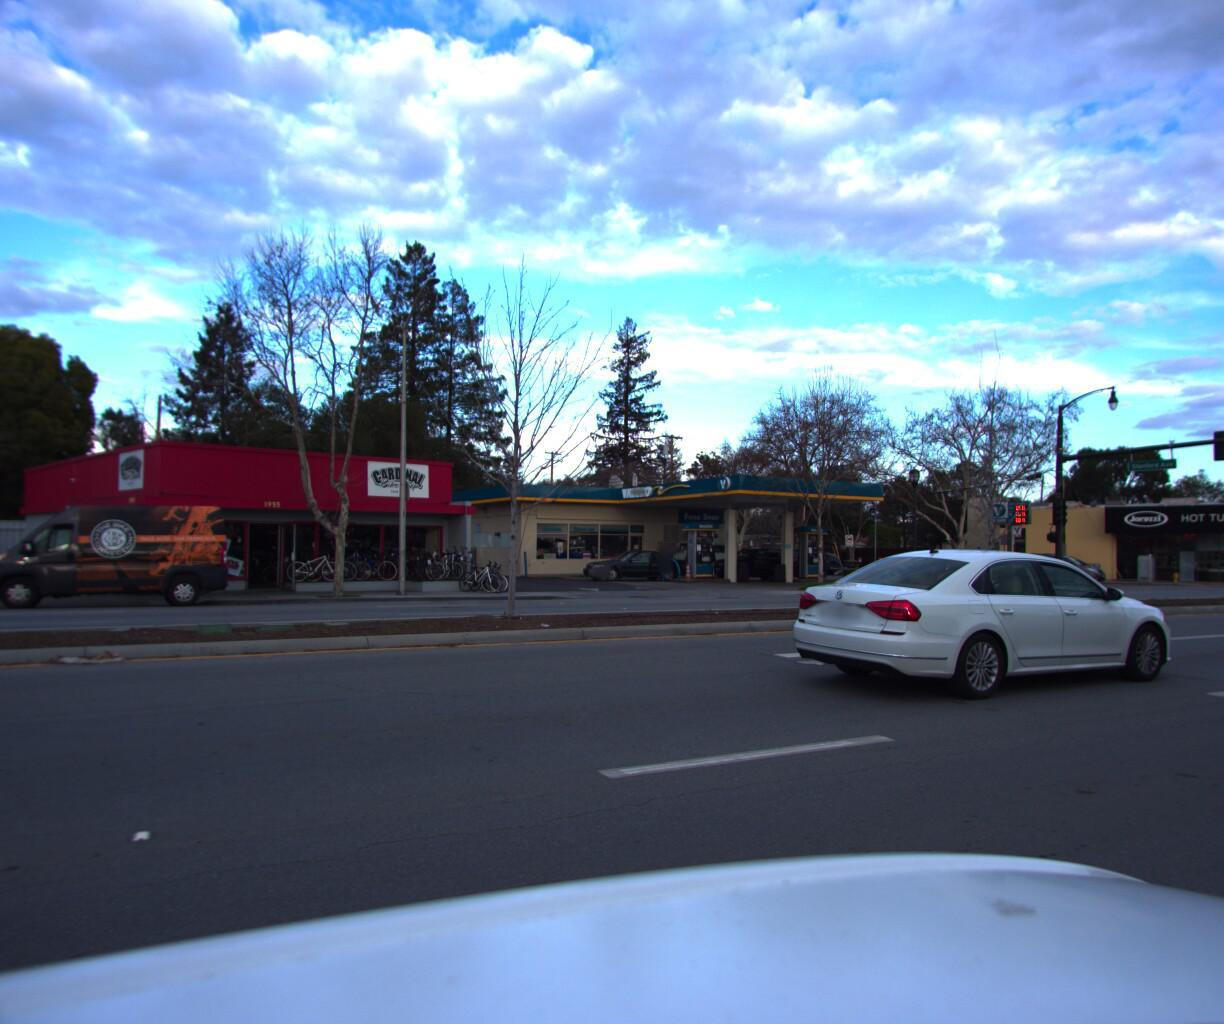bicycle: (464, 553, 503, 591), (473, 553, 513, 590), (399, 553, 436, 591), (409, 553, 446, 590), (419, 553, 455, 590), (442, 552, 478, 589), (431, 552, 467, 589)
car: (776, 544, 1192, 714), (575, 544, 691, 580), (703, 541, 804, 576), (1006, 545, 1106, 580), (778, 545, 843, 571)
